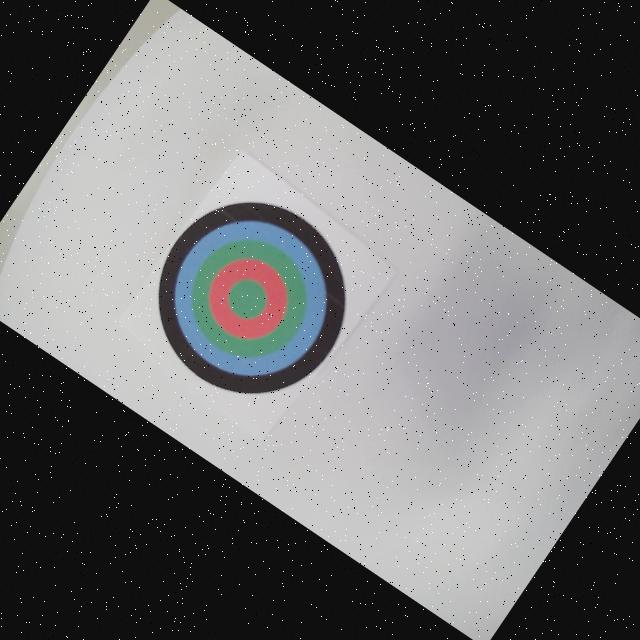COGNITIVE: (120, 167, 384, 432)
